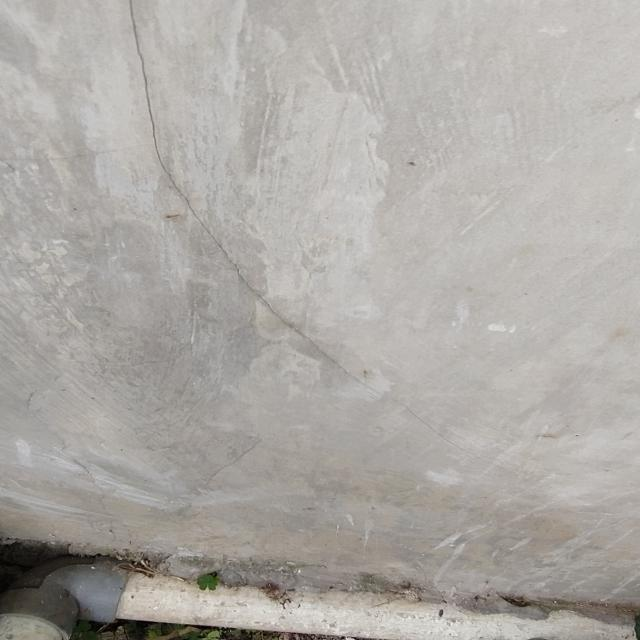Crack: (127, 1, 522, 481)
